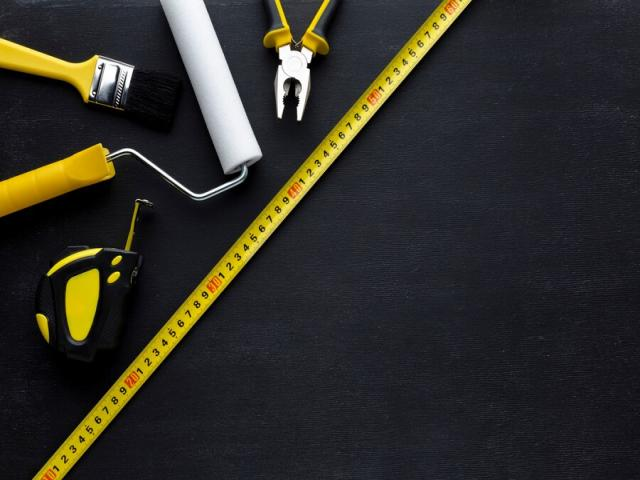Pliers: (262, 0, 339, 121)
Tape measure: (35, 200, 152, 362)
